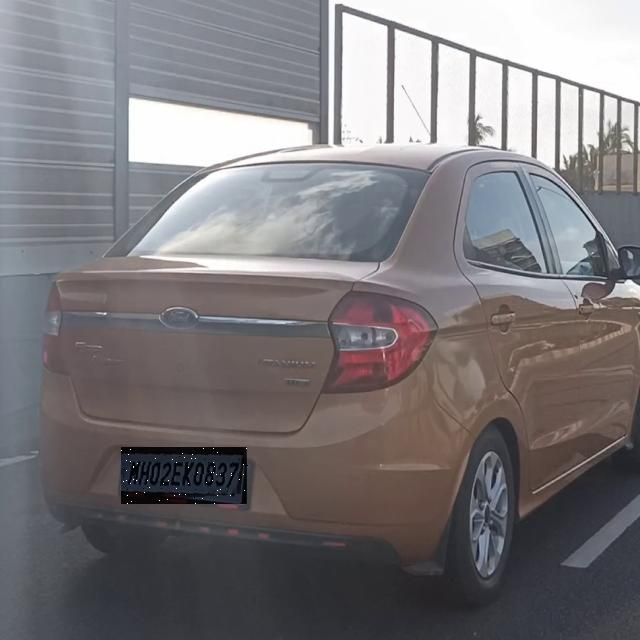Plate: (123, 448, 251, 505)
